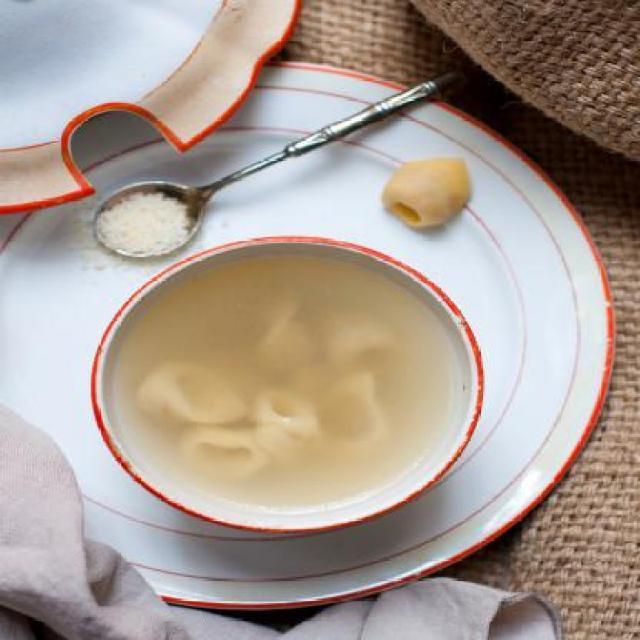Tortellini in broth: (140, 264, 451, 502)
